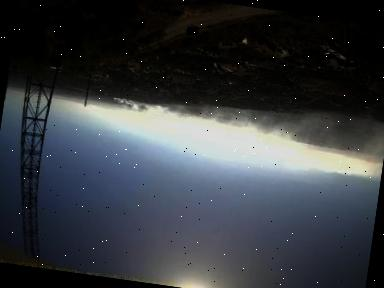smoke: (104, 83, 384, 180)
